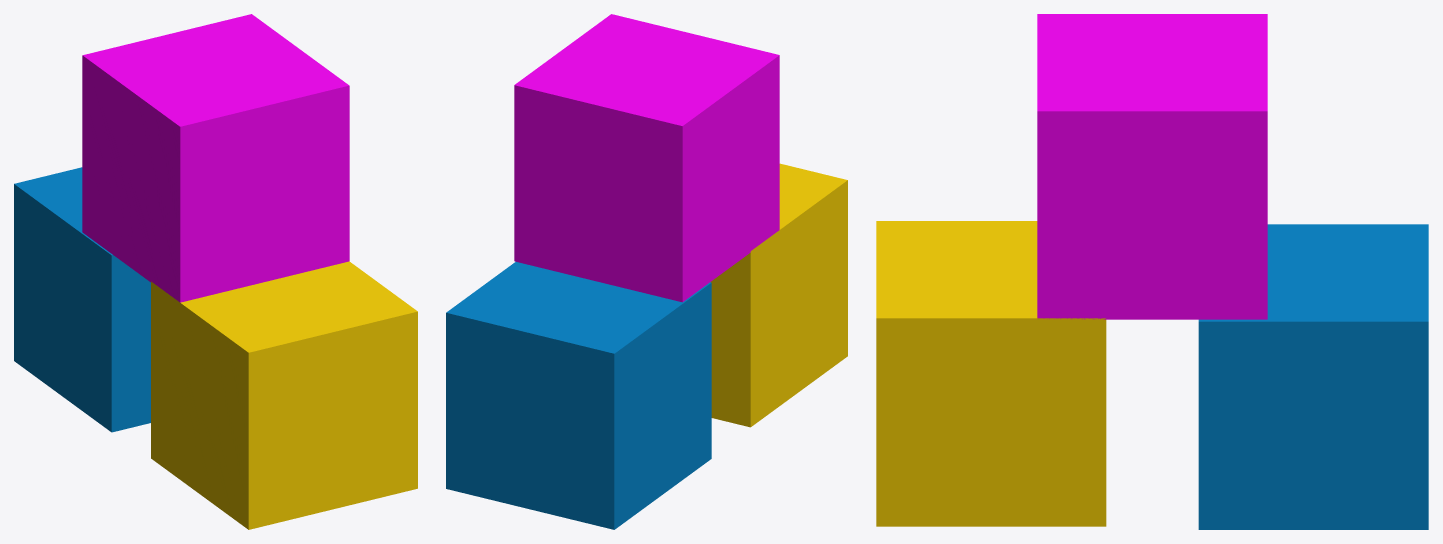
Rendered from jeu.fbx.
3 views of the same model, side by side, from view 1: azimuth 30°, elevation 25°; view 2: azimuth 150°, elevation 25°; view 3: azimuth 270°, elevation 25° (orthographic). The views are drawn at different scales.
Visible parts, largest first — view 1: Cube.001, Cube, Cube.002; view 2: Cube.001, Cube.002, Cube; view 3: Cube.001, Cube.002, Cube.
Part boxes in pixels (x1=…): Cube.001: x1=82, y1=14, x2=349, y2=302; Cube: x1=151, y1=261, x2=417, y2=529; Cube.002: x1=14, y1=167, x2=150, y2=432; Cube.001: x1=514, y1=14, x2=779, y2=302; Cube.002: x1=446, y1=262, x2=711, y2=529; Cube: x1=710, y1=163, x2=847, y2=427; Cube.001: x1=1037, y1=14, x2=1267, y2=319; Cube.002: x1=1198, y1=224, x2=1428, y2=529; Cube: x1=876, y1=221, x2=1106, y2=526.
Bounding box in the file's own units: 200 × 402 × 480.
